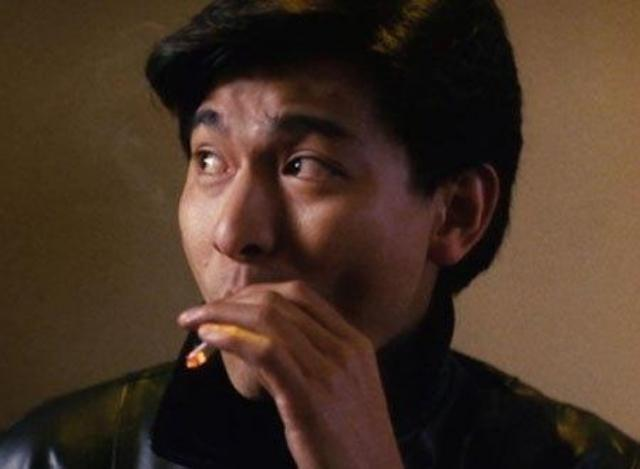SafeDriving: (272, 132, 348, 196), (185, 128, 238, 185), (192, 100, 232, 134)
Smoking: (187, 340, 215, 369)
